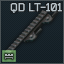LaRue LT101 QD tactical picatinny riser mount: (0, 0, 64, 64)
